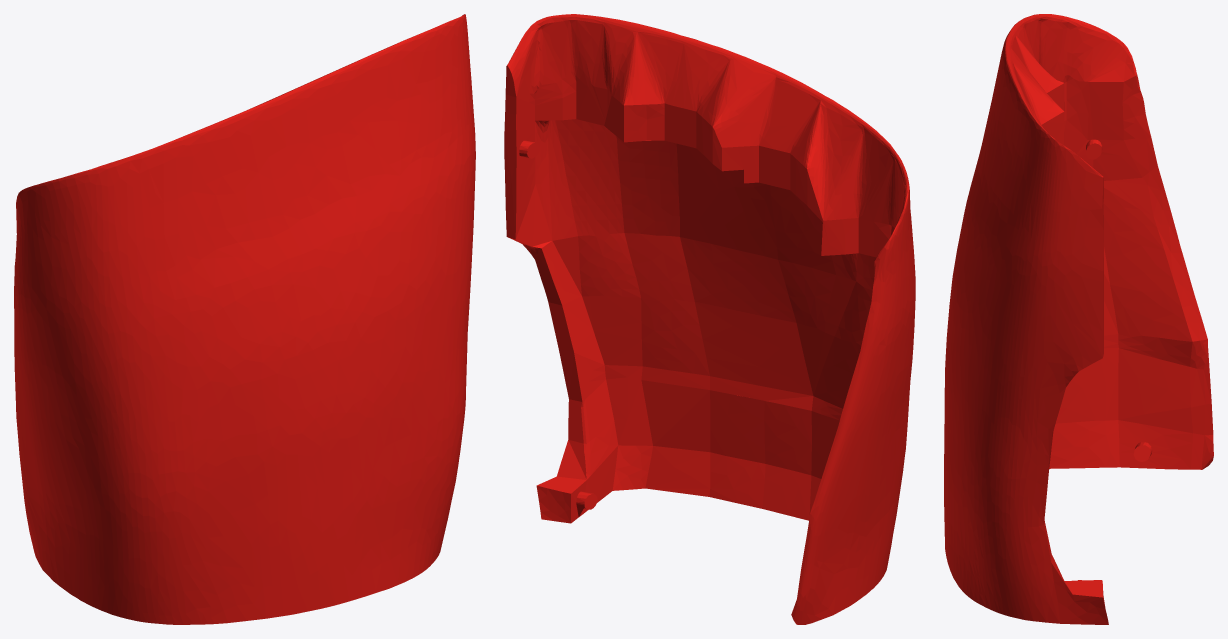
Rendered from Upper Cover.dae.
3 views of the same model, side by side, from view 1: azimuth 30°, elevation 25°; view 2: azimuth 150°, elevation 25°; view 3: azimuth 270°, elevation 25° (orthographic). The views are drawn at different scales.
Parts seen in each view (by area): view 1: Upper_Cover - 10x reduced; view 2: Upper_Cover - 10x reduced; view 3: Upper_Cover - 10x reduced.
Part boxes in pixels (<box>): Upper_Cover - 10x reduced: <box>14,14,475,624</box>; Upper_Cover - 10x reduced: <box>504,14,915,624</box>; Upper_Cover - 10x reduced: <box>944,14,1213,624</box>.
Size of the model in its own units: 0.0884 by 0.0491 by 0.1015.
